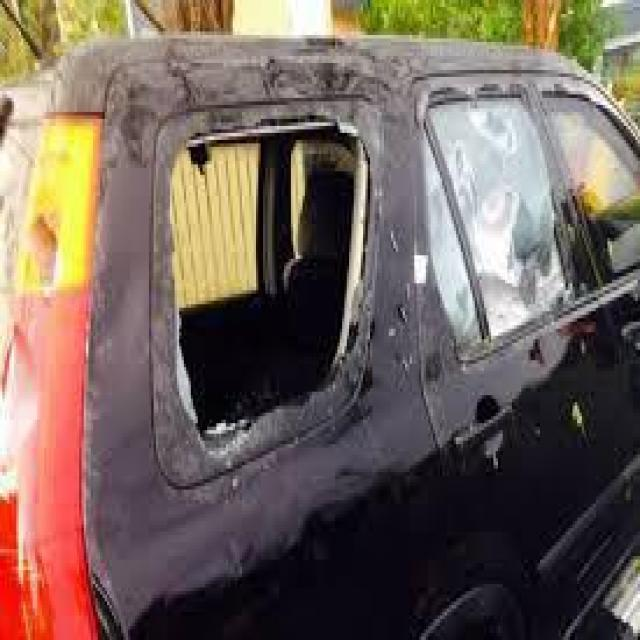damaged: (158, 105, 426, 451)
